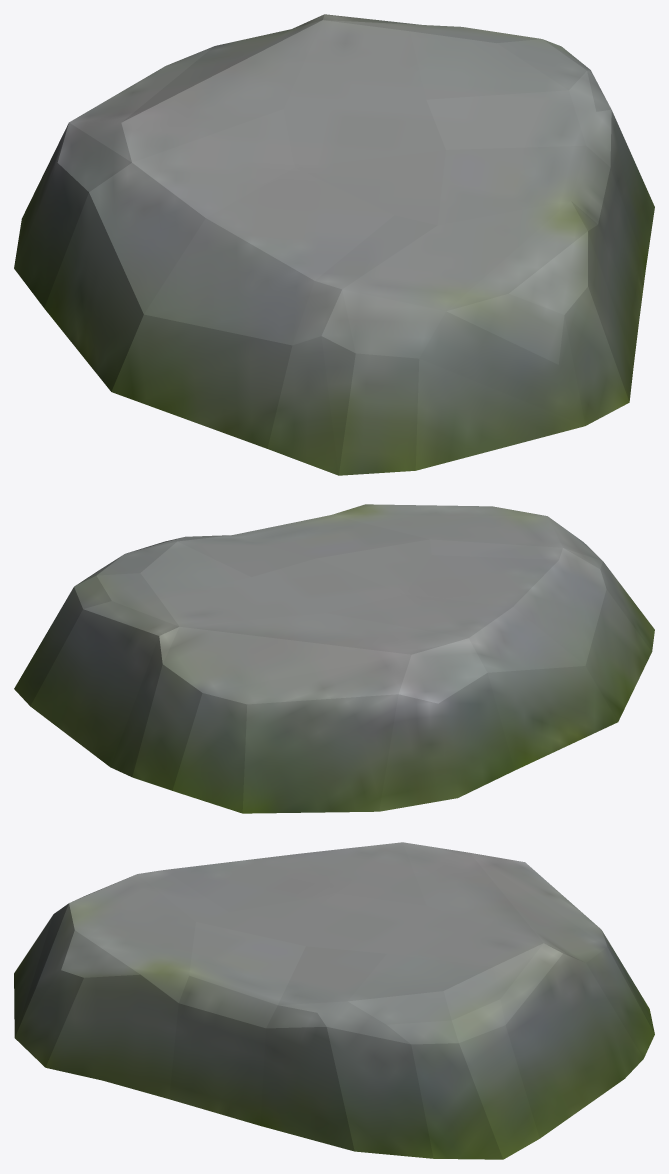
Rendered from sn_pebble_round_4.glb.
3 views of the same model, one above another, from view 1: azimuth 30°, elevation 25°; view 2: azimuth 150°, elevation 25°; view 3: azimuth 270°, elevation 25° (orthographic). The views are drawn at different scales.
Parts seen in each view (by area): view 1: Pebble_Round_4; view 2: Pebble_Round_4; view 3: Pebble_Round_4.
Part boxes in pixels (x1=…): Pebble_Round_4: x1=14, y1=14, x2=654, y2=475; Pebble_Round_4: x1=14, y1=504, x2=654, y2=813; Pebble_Round_4: x1=14, y1=842, x2=654, y2=1159.
Bounding box in the file's own units: 0.4063 × 0.0994 × 0.4524.
Materials: 1 (1 with a texture image).
